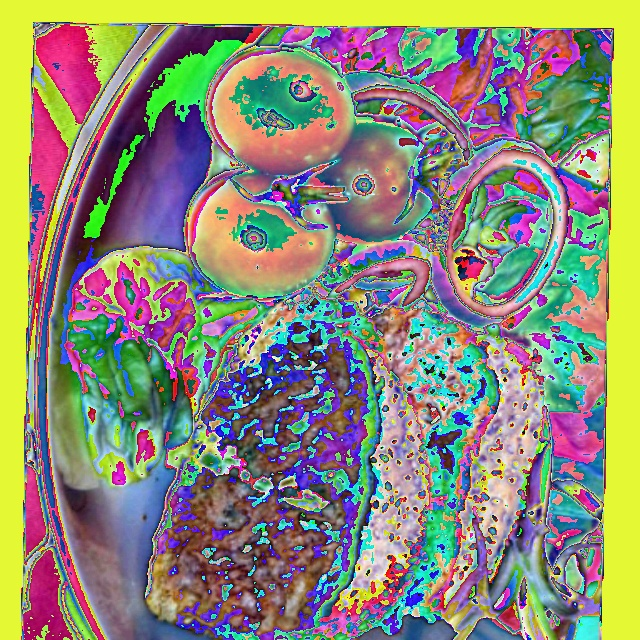background: (65, 27, 611, 639)
